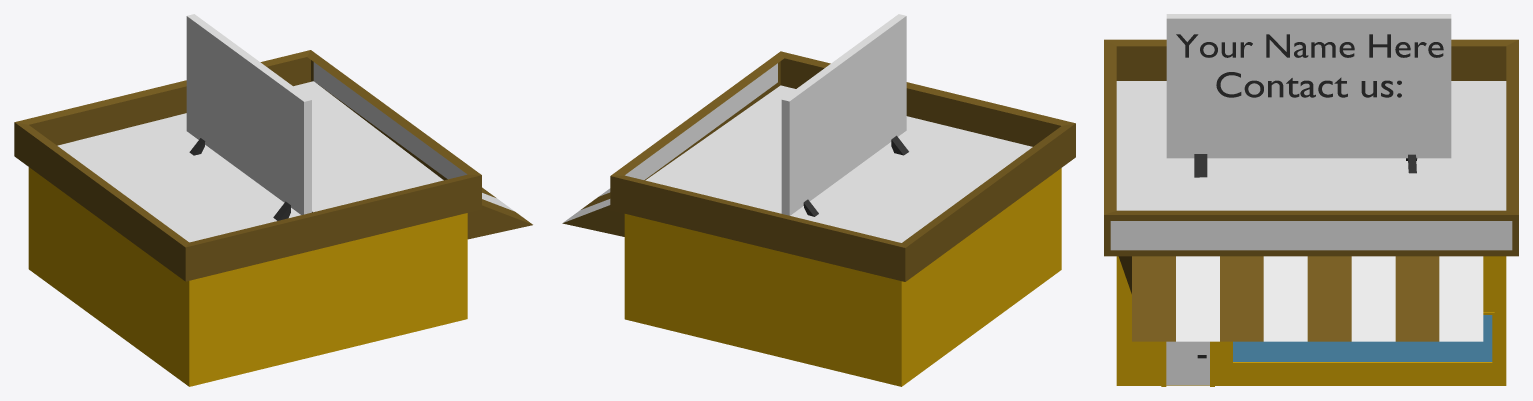
The model's file is yellow Shop 2.fbx.
The picture shows the model from 3 angles, left to right: view 1: azimuth 30°, elevation 25°; view 2: azimuth 150°, elevation 25°; view 3: azimuth 270°, elevation 25°; orthographic projection. The views are drawn at different scales.
Visible parts, largest first — view 1: Cube.001; view 2: Cube.001; view 3: Cube.001.
Boxes of the visible parts, bbox=[...] form: Cube.001: bbox=[14, 14, 532, 386]; Cube.001: bbox=[562, 14, 1075, 386]; Cube.001: bbox=[1104, 14, 1518, 386].
Bounding box in the file's own units: 258 × 163 × 213.
